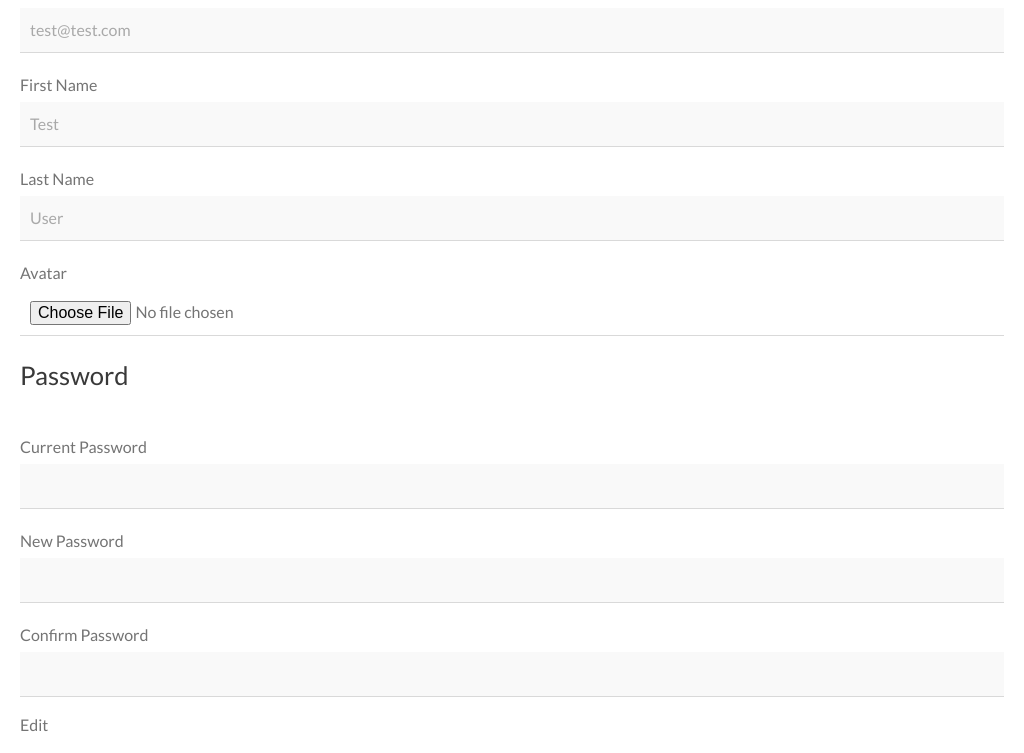
Test: UserProfilePage › should render the page in edit mode
(page scrolled)
Click the button with test id "UserProfilePage.button.edit" at (34, 725), box [20,717,48,733]
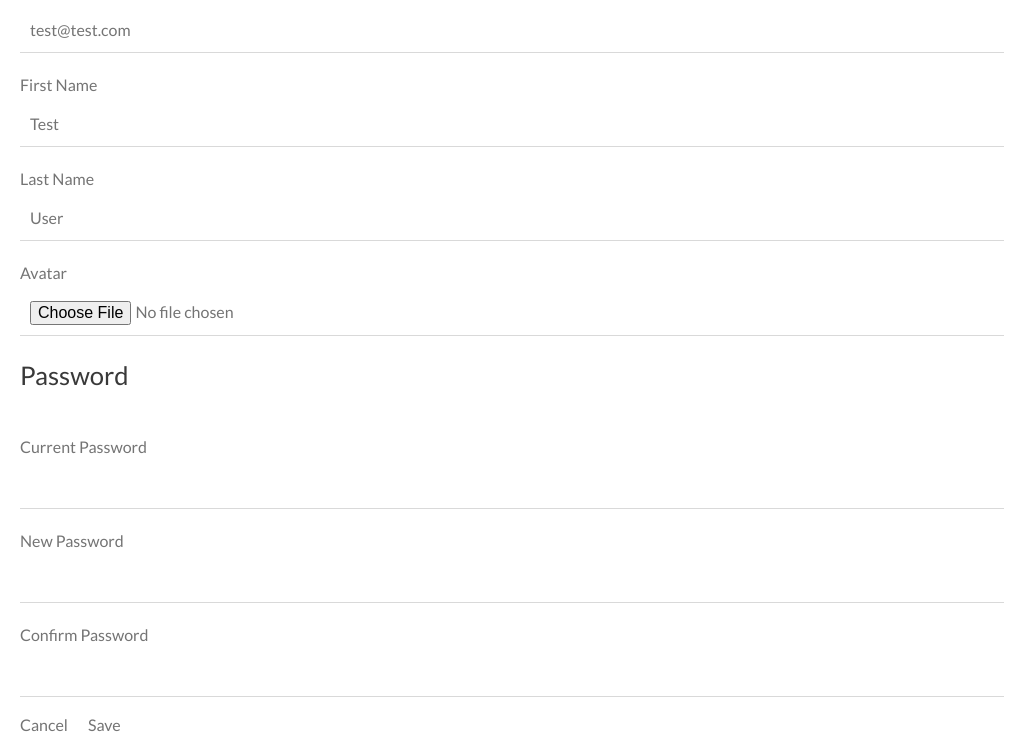
Check: the field with test id "UserProfilePage.email.input" is enabled, box [20,8,1004,53]
Check: the field with test id "UserProfilePage.firstName.input" is enabled, box [20,102,1004,147]
Check: the field with test id "UserProfilePage.lastName.input" is enabled, box [20,196,1004,241]
